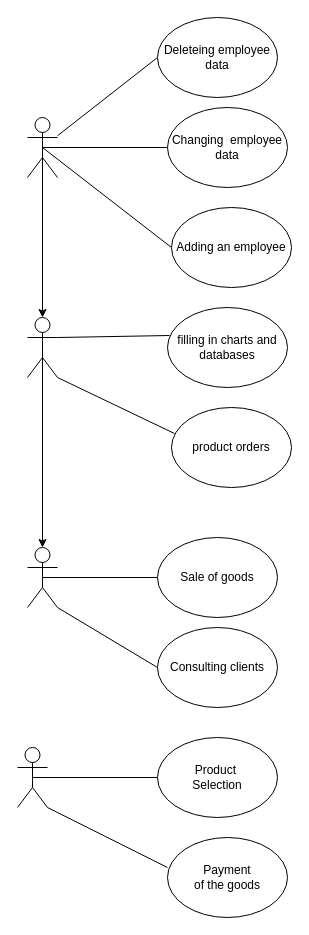
The diagram is 309 pixels wide and 935 high, and some of its shapes have lost their labels. Here are the shapes that lost their labels. From the top down, the centre of each, then its label:
the point at 42,147: Director
the point at 42,347: Assistant
the point at 42,577: Worker
the point at 32,777: Buyer
